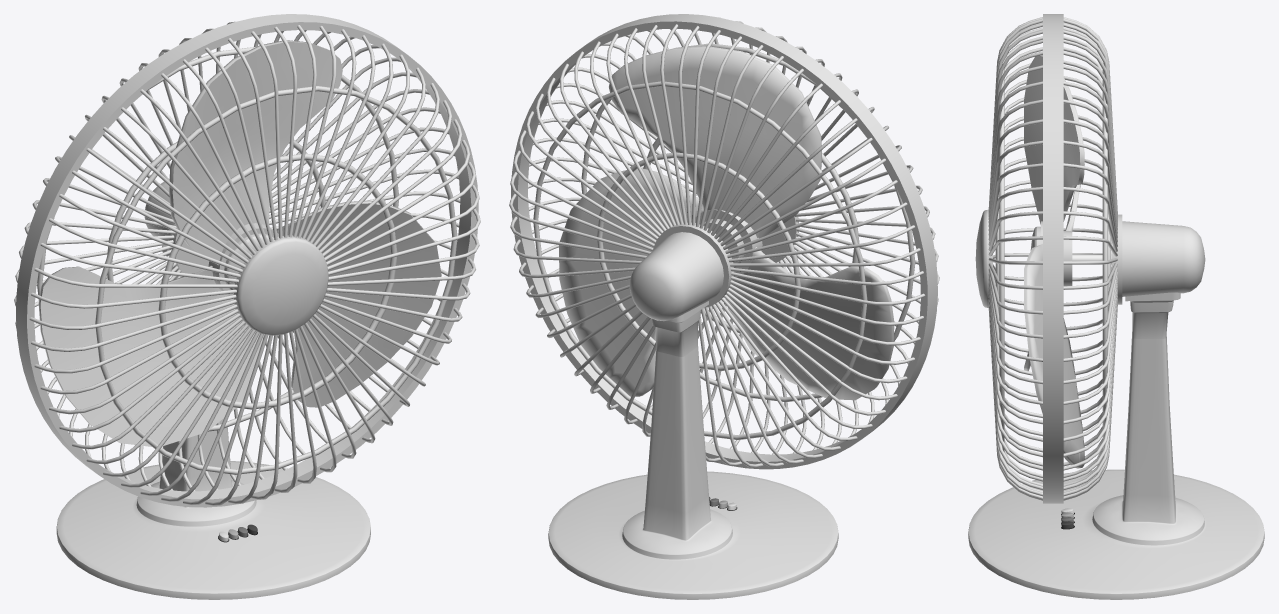
Rendered from DeskFan.fbx.
The picture shows the model from 3 angles, left to right: view 1: azimuth 30°, elevation 25°; view 2: azimuth 150°, elevation 25°; view 3: azimuth 270°, elevation 25°; orthographic projection. The views are drawn at different scales.
Parts seen in each view (by area): view 1: SM_Fan, Fanpart; view 2: SM_Fan, Fanpart; view 3: SM_Fan, Fanpart.
Part boxes in pixels (<box>): SM_Fan: <box>14,14,480,599</box>; Fanpart: <box>38,40,441,446</box>; SM_Fan: <box>509,14,939,599</box>; Fanpart: <box>559,46,894,400</box>; SM_Fan: <box>968,14,1264,599</box>; Fanpart: <box>1024,55,1084,468</box>.
Bounding box in the file's own units: 70.58 × 79.66 × 42.73.
1 material, 1 textured.
